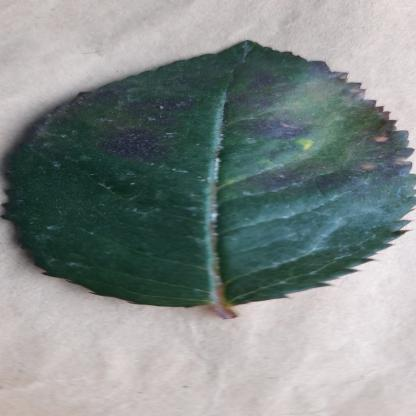downy-mildew: (6, 42, 408, 309)
